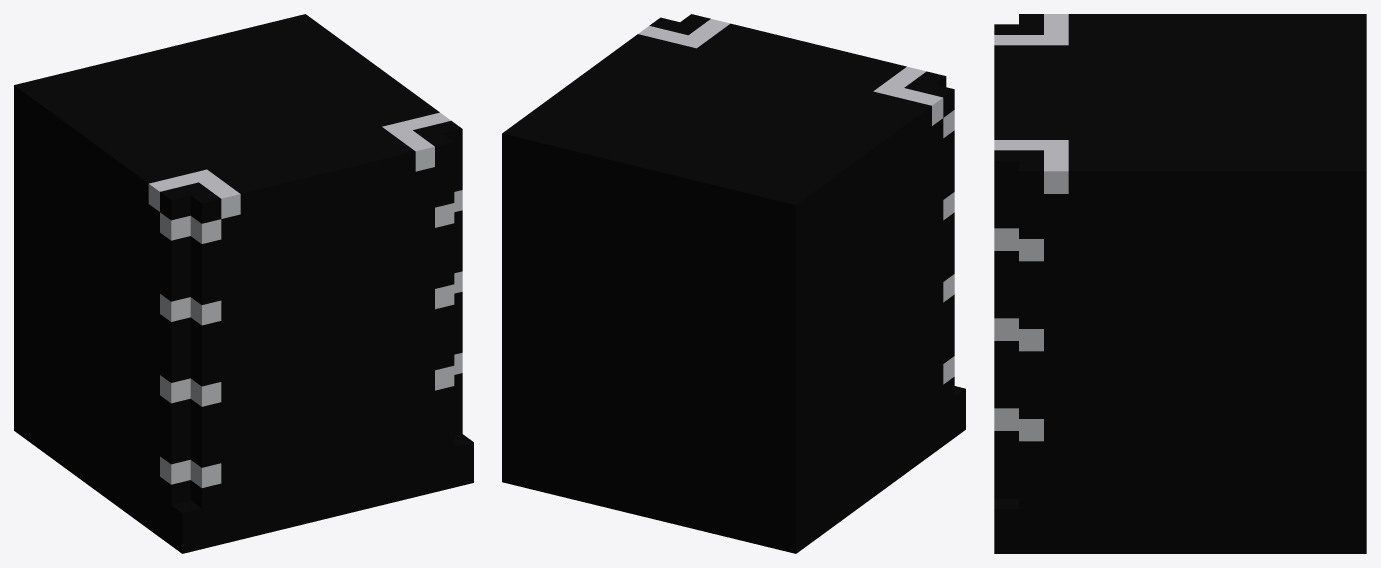
Rendered from dungeon_d_a_outer_wall_segment_b_flipped.obj.
3 views of the same model, side by side, from view 1: azimuth 30°, elevation 25°; view 2: azimuth 150°, elevation 25°; view 3: azimuth 270°, elevation 25° (orthographic). The views are drawn at different scales.
Size of the model in its own units: 1.5 by 1.7 by 1.5.
1 material, 1 textured.
